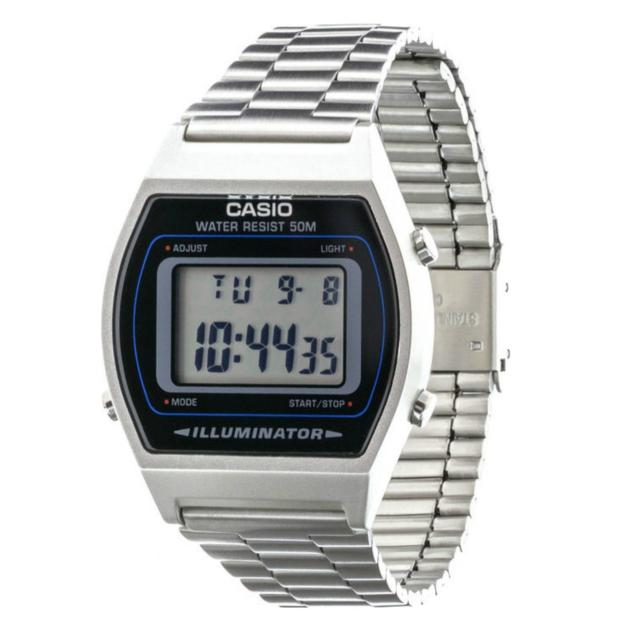watch: (103, 142, 428, 522)
